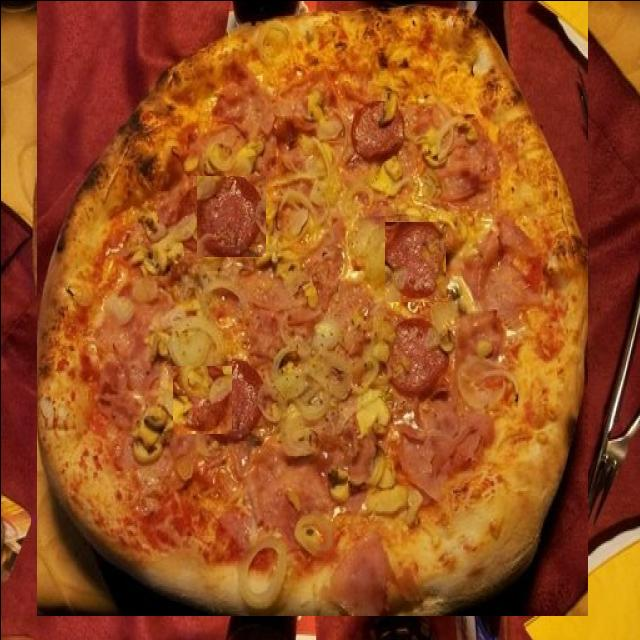pepperoni: (196, 175, 264, 256), (384, 221, 444, 301), (172, 365, 230, 433), (347, 456, 402, 516)
pizza: (34, 0, 586, 615)
